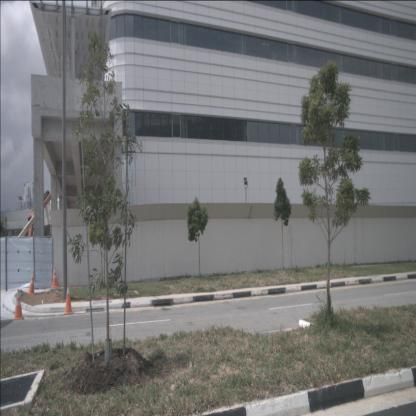cone: (12, 288, 24, 320), (63, 284, 73, 314), (27, 271, 36, 295), (51, 266, 59, 288)
